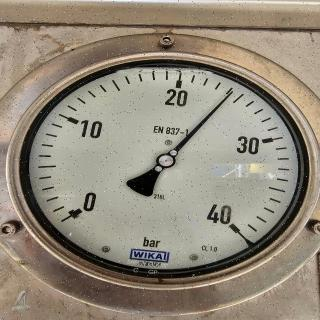gauge: (0, 45, 320, 288), (60, 192, 96, 227), (214, 210, 250, 240), (156, 151, 176, 169), (224, 88, 236, 98)
